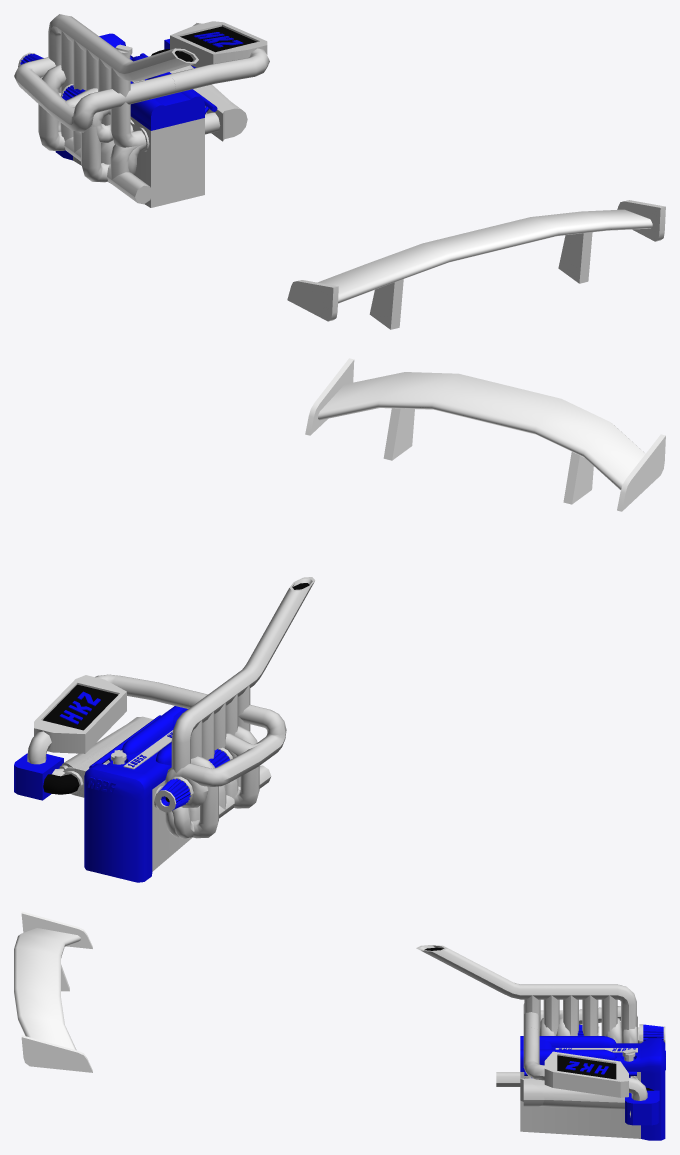
The model's file is NISSAN-180SX MODS (2X-FACES).fbx.
The picture shows the model from 3 angles, top to bottom: view 1: azimuth 30°, elevation 25°; view 2: azimuth 150°, elevation 25°; view 3: azimuth 270°, elevation 25°; orthographic projection. The views are drawn at different scales.
Parts seen in each view (by area): view 1: SPOILER, EXHAUST LVL3, BLOCK, EXHAUST LVL2, INTAKE LVL3, EXHAUST LVL1, INTAKE LVL1; view 2: SPOILER, BLOCK, EXHAUST LVL3, INTAKE LVL3, EXHAUST LVL2, INTAKE LVL1, EXHAUST LVL1, INTAKE LVL2; view 3: SPOILER, BLOCK, EXHAUST LVL2, INTAKE LVL3, EXHAUST LVL3, INTAKE LVL1, INTAKE LVL2, EXHAUST LVL1.
Part boxes in pixels (<box>): SPOILER: <box>287,200,665,329</box>; EXHAUST LVL3: <box>14,52,175,182</box>; BLOCK: <box>55,33,204,207</box>; EXHAUST LVL2: <box>48,14,198,151</box>; INTAKE LVL3: <box>168,21,269,93</box>; EXHAUST LVL1: <box>58,121,152,204</box>; INTAKE LVL1: <box>140,39,247,139</box>; SPOILER: <box>305,358,665,511</box>; BLOCK: <box>84,706,192,882</box>; EXHAUST LVL3: <box>155,692,286,838</box>; INTAKE LVL3: <box>27,674,196,764</box>; EXHAUST LVL2: <box>154,577,315,807</box>; INTAKE LVL1: <box>14,715,160,800</box>; EXHAUST LVL1: <box>154,765,271,838</box>; INTAKE LVL2: <box>52,719,153,797</box>; SPOILER: <box>14,911,92,1072</box>; BLOCK: <box>520,1036,665,1140</box>; EXHAUST LVL2: <box>416,945,636,1036</box>; INTAKE LVL3: <box>523,1027,647,1100</box>; EXHAUST LVL3: <box>523,1003,665,1043</box>; INTAKE LVL1: <box>523,1071,659,1125</box>; INTAKE LVL2: <box>520,1078,630,1117</box>; EXHAUST LVL1: <box>496,1072,520,1086</box>.
Bounding box in the file's own units: 370 × 222 × 811.
